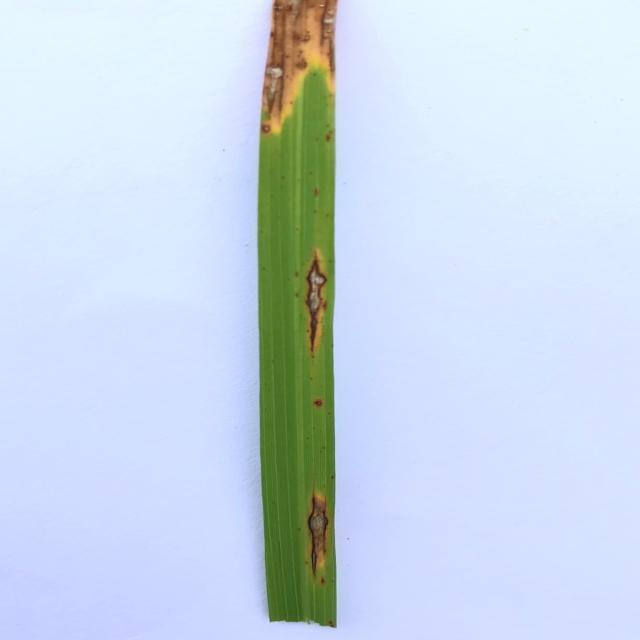Leaf_Blast: (305, 258, 326, 345), (306, 496, 328, 575)
